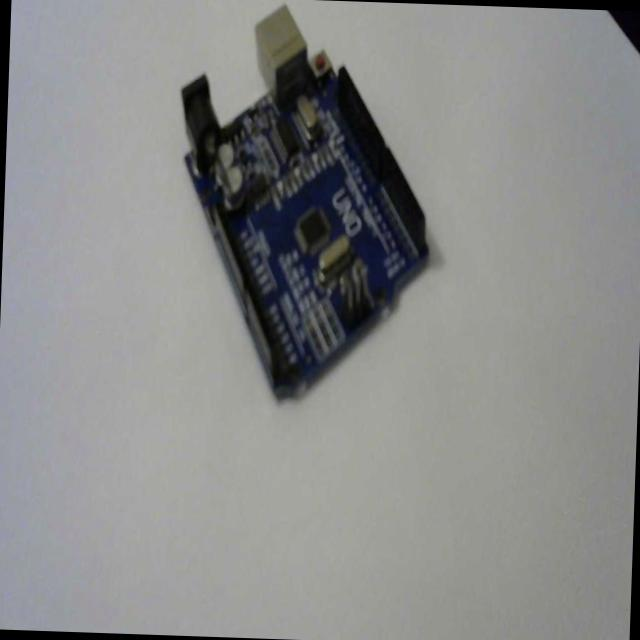arduino: (166, 1, 440, 418)
